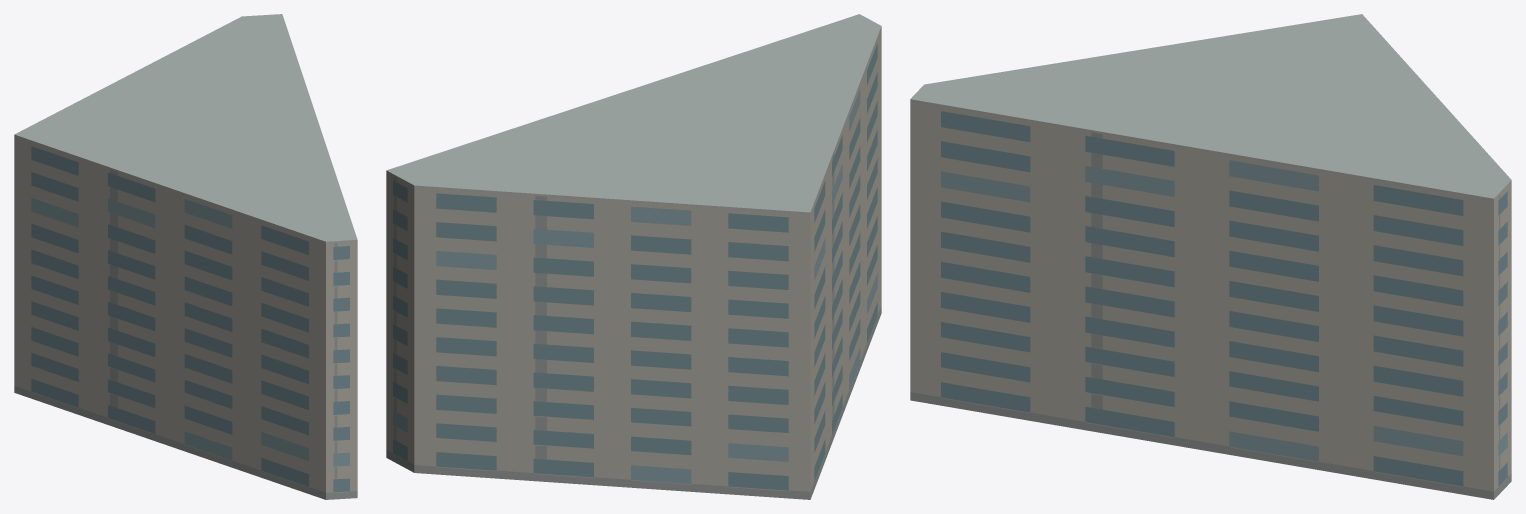
File: residential-6cb92388-8226-4263-bb53-2f7566eb04fc.glb
The picture shows the model from 3 angles, left to right: view 1: azimuth 30°, elevation 25°; view 2: azimuth 150°, elevation 25°; view 3: azimuth 270°, elevation 25°; orthographic projection. The views are drawn at different scales.
Visible parts, largest first — view 1: residential-6cb92388-8226-4263-bb53-2f7566eb04fc.tmp; view 2: residential-6cb92388-8226-4263-bb53-2f7566eb04fc.tmp; view 3: residential-6cb92388-8226-4263-bb53-2f7566eb04fc.tmp.
Part boxes in pixels (x1=…): residential-6cb92388-8226-4263-bb53-2f7566eb04fc.tmp: x1=14, y1=14, x2=357, y2=499; residential-6cb92388-8226-4263-bb53-2f7566eb04fc.tmp: x1=386, y1=14, x2=881, y2=499; residential-6cb92388-8226-4263-bb53-2f7566eb04fc.tmp: x1=910, y1=14, x2=1511, y2=499.
Size of the model in its own units: 43.4 by 33 by 59.73.
